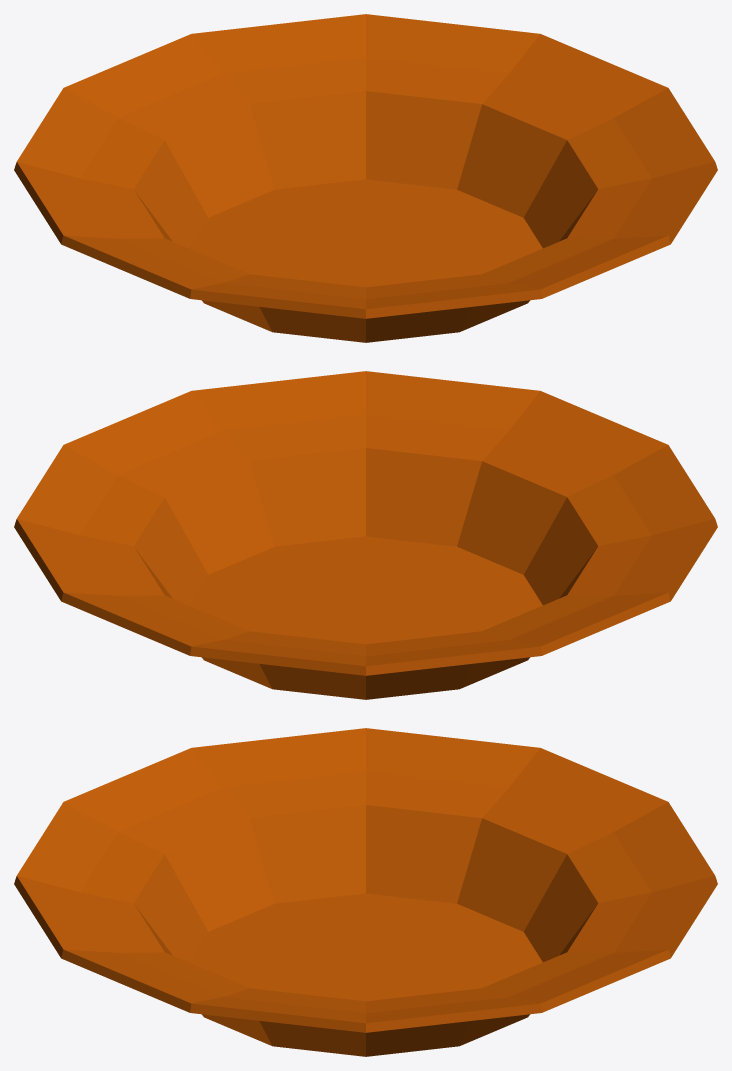
The model's file is Plate1.fbx.
3 views of the same model, one above another, from view 1: azimuth 30°, elevation 25°; view 2: azimuth 150°, elevation 25°; view 3: azimuth 270°, elevation 25° (orthographic).
Parts seen in each view (by area): view 1: Plate1; view 2: Plate1; view 3: Plate1.
Boxes of the visible parts, <box> form: Plate1: <box>14,14,717,342</box>; Plate1: <box>14,371,717,699</box>; Plate1: <box>14,728,717,1056</box>.
Size of the model in its own units: 96.78 by 15.49 by 96.78.
